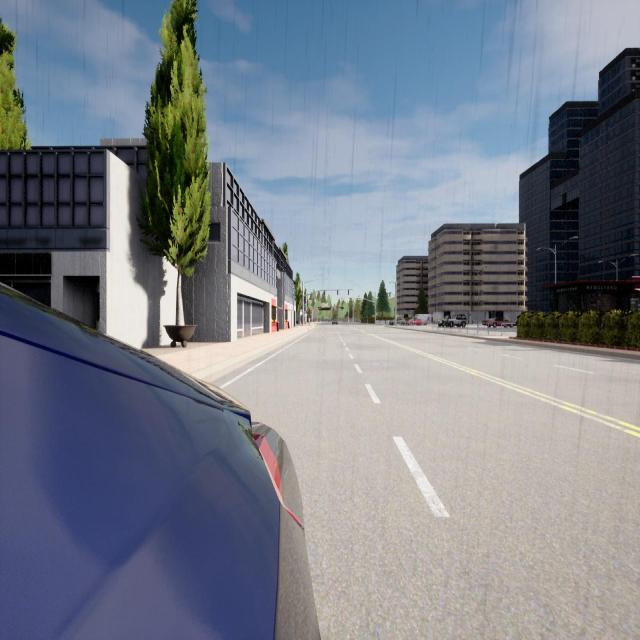Vehicle: (0, 284, 319, 638), (482, 317, 516, 328), (448, 314, 467, 328), (414, 314, 432, 326), (438, 315, 450, 327), (389, 317, 405, 325), (407, 318, 422, 325), (332, 319, 338, 325)
traffic_light: (374, 310, 376, 314), (394, 306, 395, 312), (341, 298, 343, 301), (324, 290, 325, 295), (337, 290, 338, 295), (348, 290, 349, 294), (349, 299, 350, 302), (359, 298, 360, 301), (390, 292, 390, 296)
